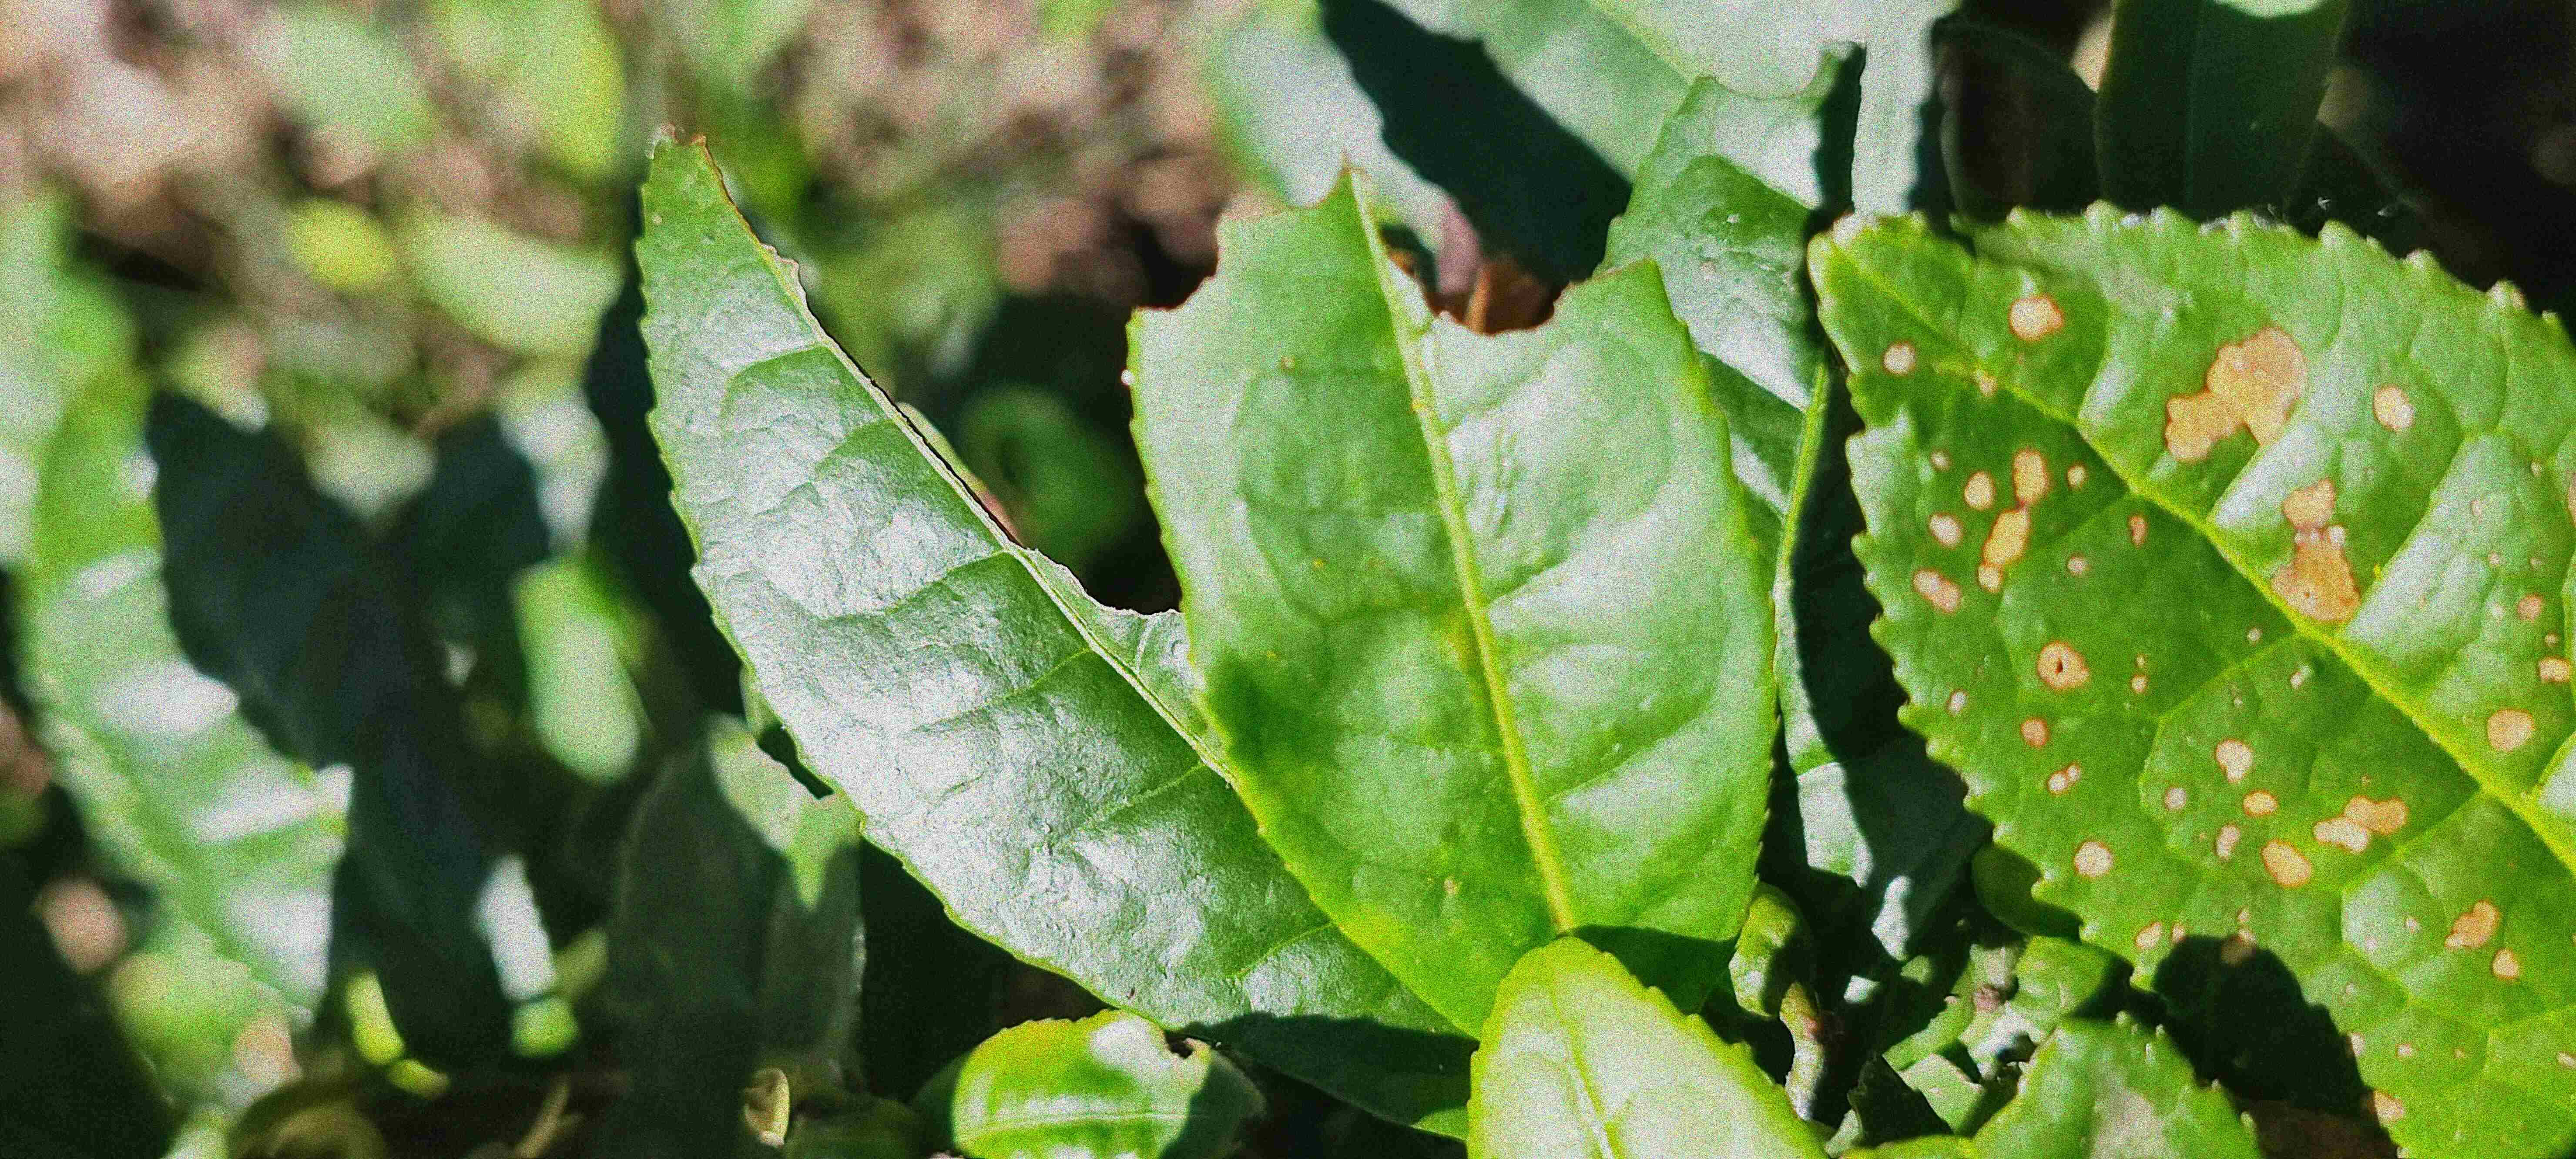chihuo_high: (632, 115, 1465, 1143), (1132, 153, 1789, 1039)
healthy: (1460, 932, 1825, 1157)
tanju_high: (1809, 199, 2574, 1151)
